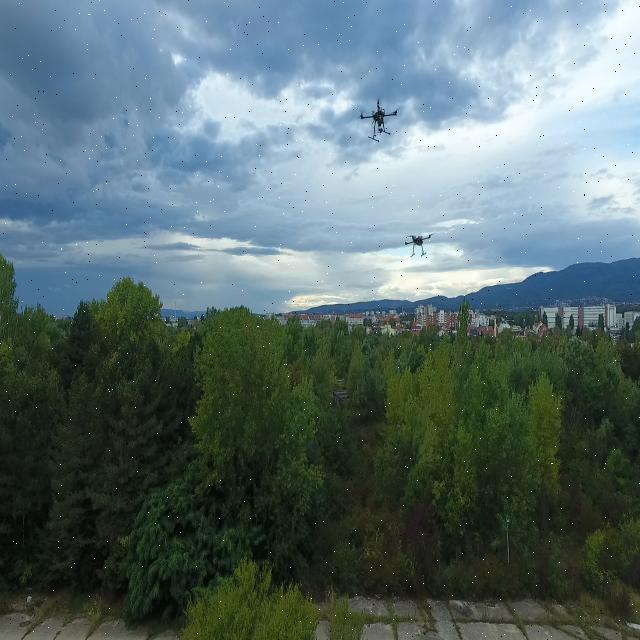UAV: (354, 96, 402, 146), (394, 229, 442, 264)
